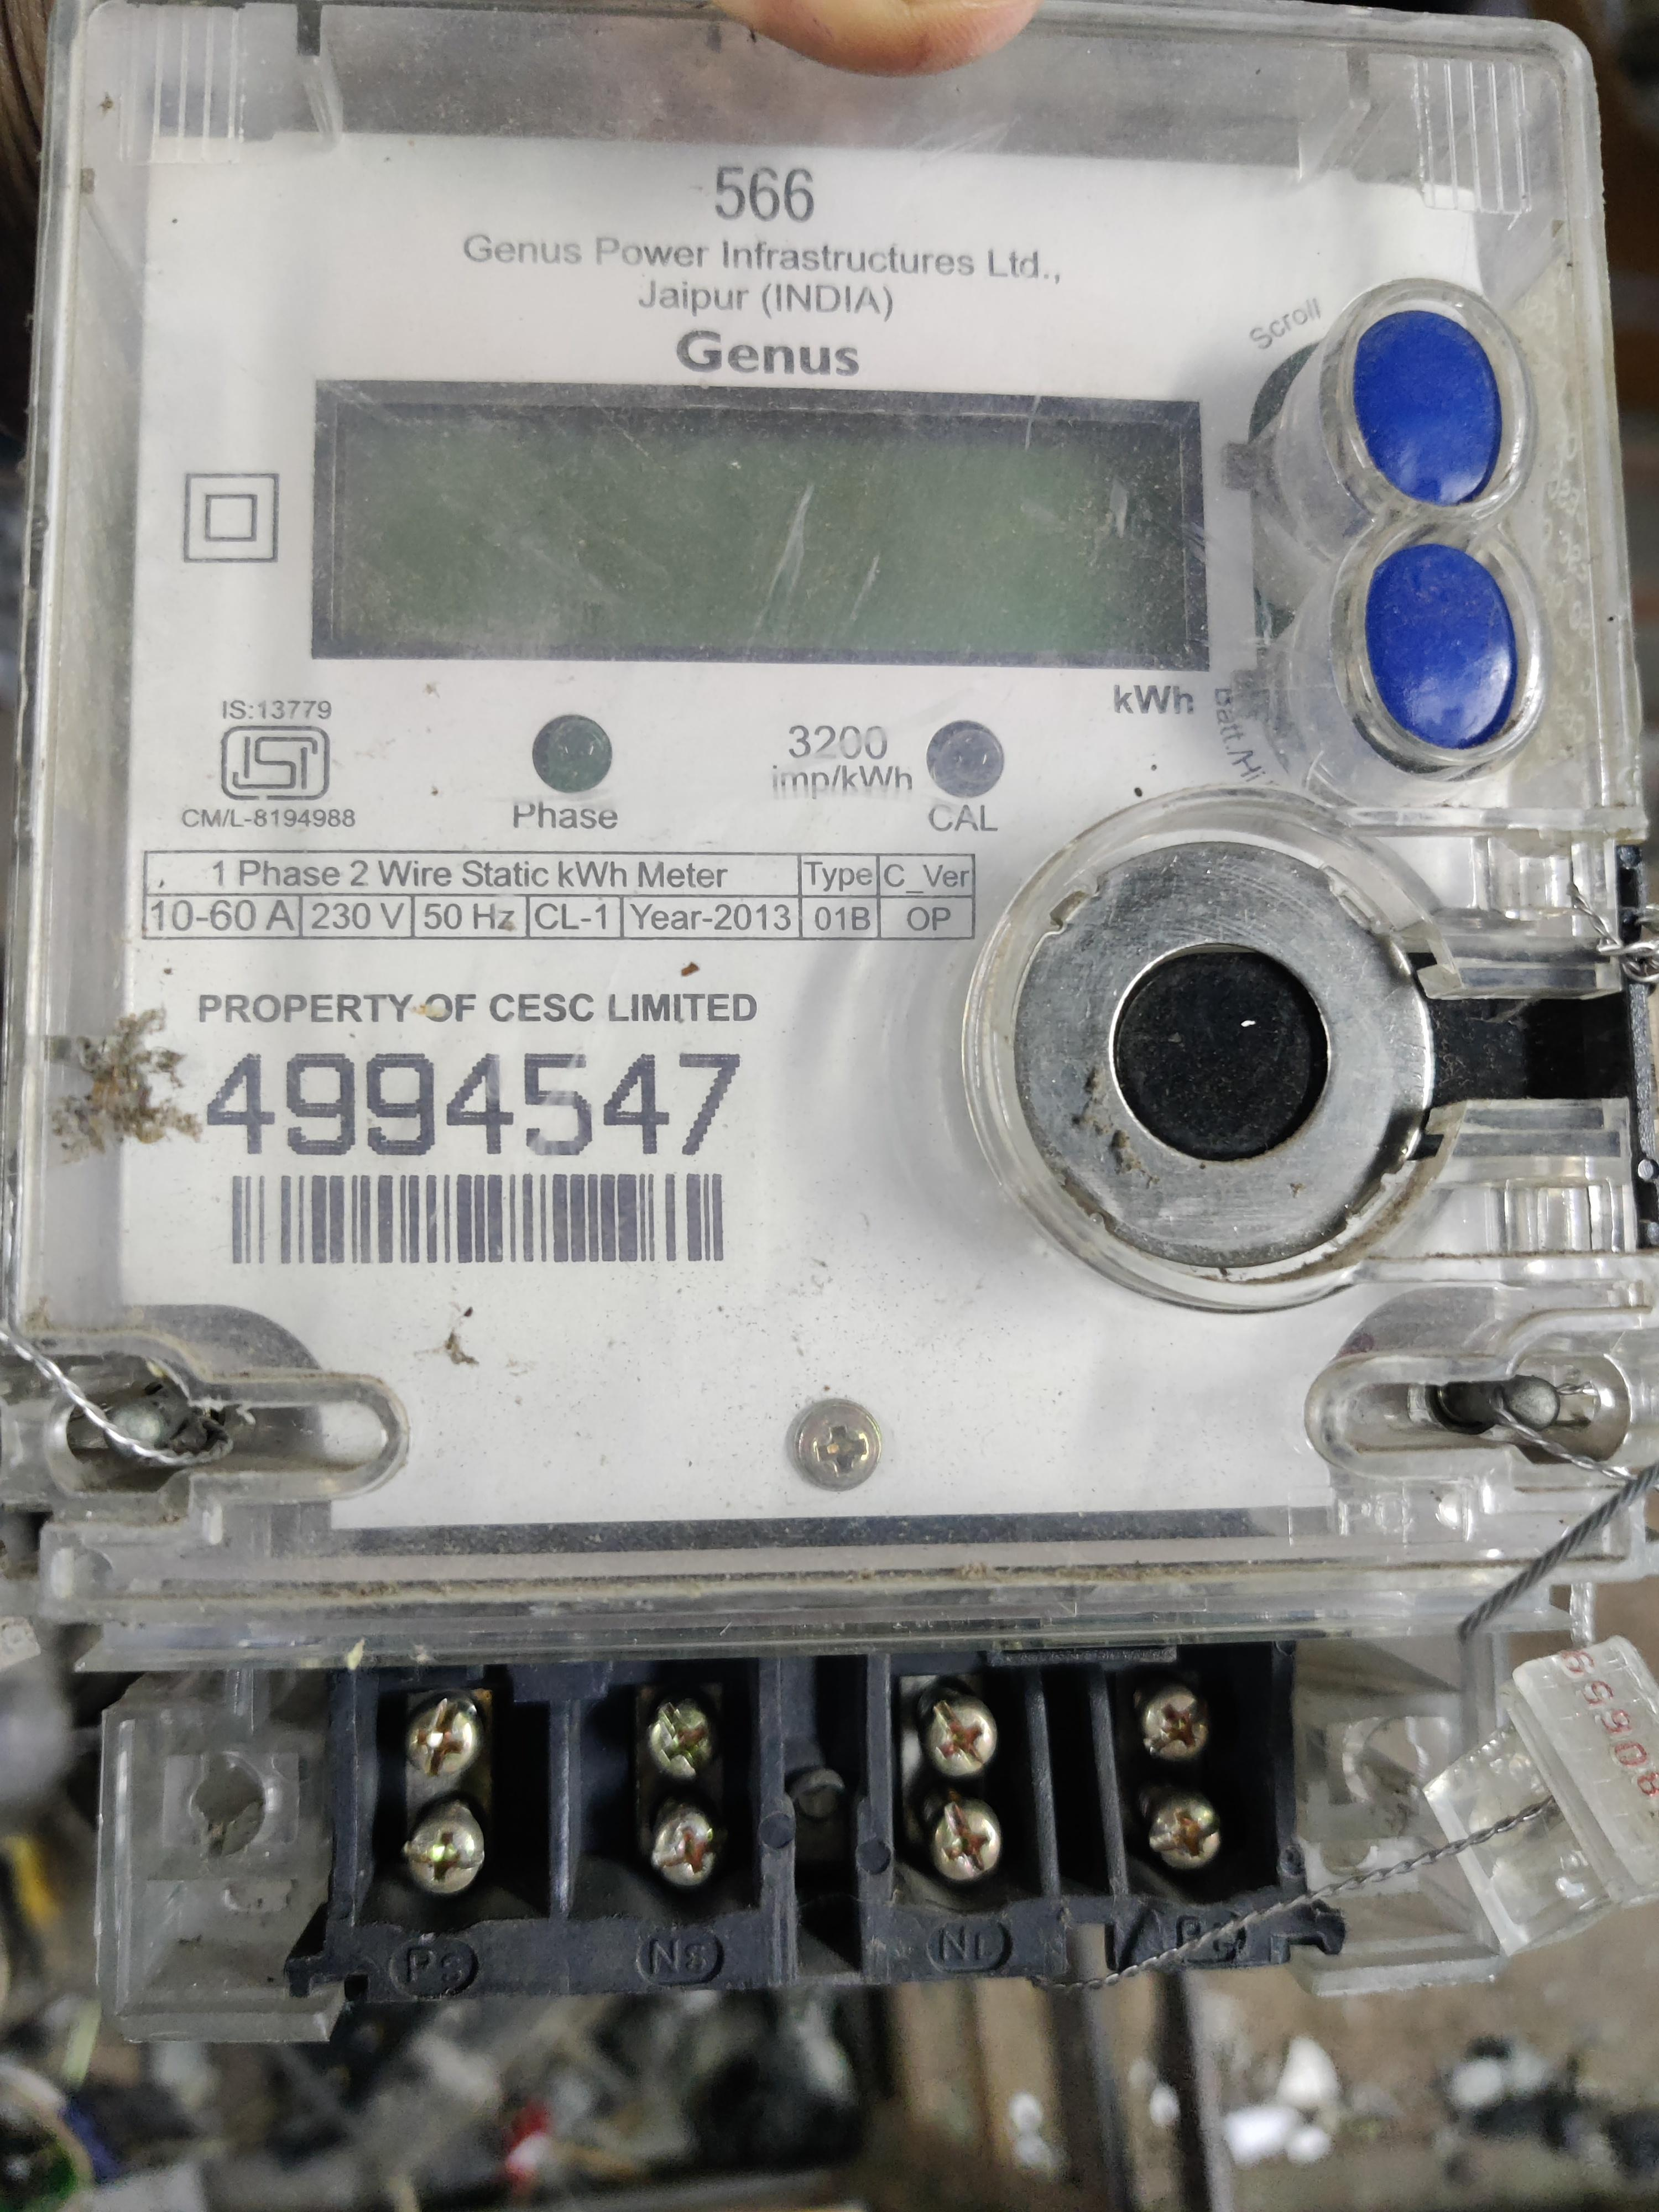meter_readings: (340, 406, 1183, 672)
serial_number: (206, 1042, 746, 1165)
